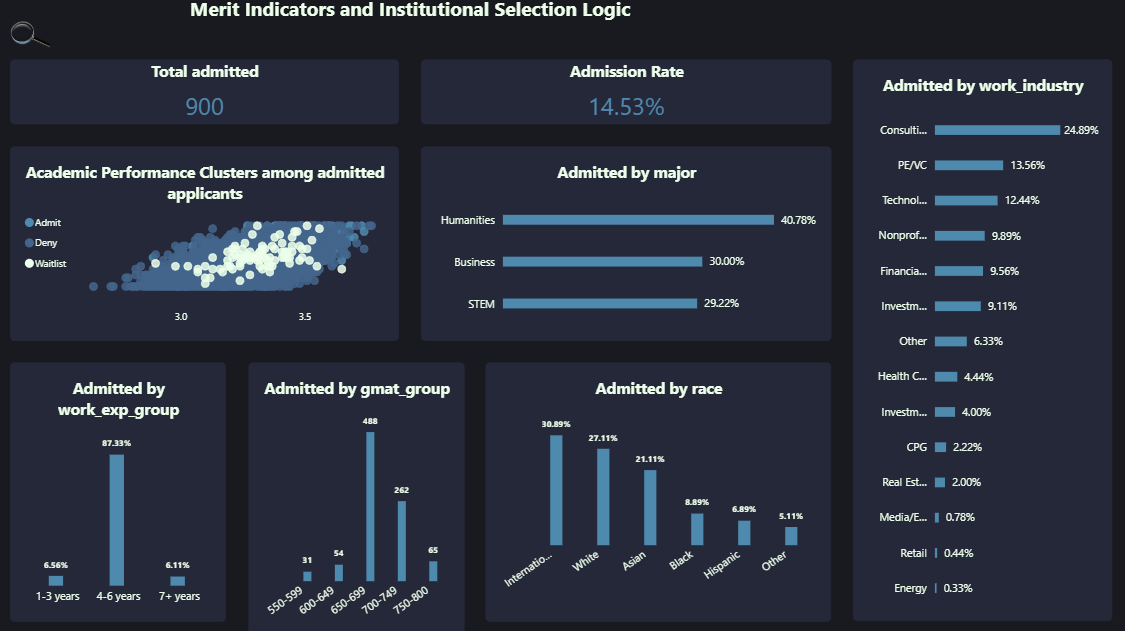

The dashboard page shown, as its layout file describes it:
{"tool":"powerbi","page":{"name":"Selection Filters and Decision Patterns","canvas":[1280,720],"ordinal":1},"visuals":[{"type":"scatterChart","title":"Academic Performance Clusters among admitted applicants","fields":{"X":["df.gpa"],"Y":["df.gmat"],"Series":["df.admission"]},"box":[24,168,432,216],"z":1000},{"type":"card","title":"Total admitted","fields":{"Values":["df.Admitted"]},"box":[24,72,432,72],"z":2000},{"type":"card","title":"Admission Rate","fields":{"Values":["df.Admission Rate"]},"box":[480,72,456,72],"z":3000},{"type":"clusteredColumnChart","title":"Admitted by race","fields":{"Category":["df.race"],"Y":["df.Admitted"]},"box":[552,408,384,288],"z":4000},{"type":"clusteredBarChart","title":"Admitted by major","fields":{"Category":["df.major"],"Y":["df.Admitted"]},"box":[480,168,456,216],"z":5000},{"type":"image","title":"Open button","box":[20,20,50,50],"z":6000},{"type":"clusteredColumnChart","title":"Admitted by gmat_group","fields":{"Y":["df.Admitted"],"Category":["df.gmat_group"]},"box":[288,408,240,312],"z":7000},{"type":"clusteredBarChart","title":"Admitted by work_industry","fields":{"Category":["df.work_industry"],"Y":["df.Admitted"]},"box":[960,72,288,624],"z":8000},{"type":"clusteredColumnChart","title":" Admitted by work_exp_group","fields":{"Y":["df.Admitted"],"Category":["df.work_exp_group"]},"box":[24,408,240,288],"z":9000},{"type":"textbox","box":[224,0,1040,48],"z":15501}]}

Visuals, with their boxes in screenshot pixels (x1, y1, x2, y2), scaled from the page's 1280x720 canvas onto the 1125x631 screenshot:
"Academic Performance Clusters among admitted applicants" scatterChart: (x1=21, y1=147, x2=401, y2=337)
"Total admitted" card: (x1=21, y1=63, x2=401, y2=126)
"Admission Rate" card: (x1=422, y1=63, x2=823, y2=126)
"Admitted by race" clusteredColumnChart: (x1=485, y1=358, x2=823, y2=610)
"Admitted by major" clusteredBarChart: (x1=422, y1=147, x2=823, y2=337)
"Open button" image: (x1=18, y1=18, x2=62, y2=61)
"Admitted by gmat_group" clusteredColumnChart: (x1=253, y1=358, x2=464, y2=630)
"Admitted by work_industry" clusteredBarChart: (x1=844, y1=63, x2=1097, y2=610)
" Admitted by work_exp_group" clusteredColumnChart: (x1=21, y1=358, x2=232, y2=610)
textbox: (x1=197, y1=0, x2=1111, y2=42)
